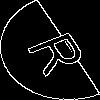R: (25, 25, 99, 78)
